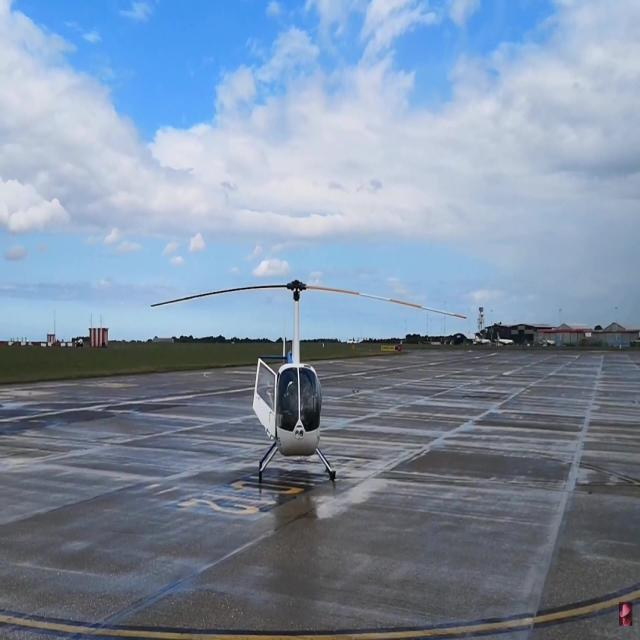CIV_HELO: (250, 278, 337, 482)
